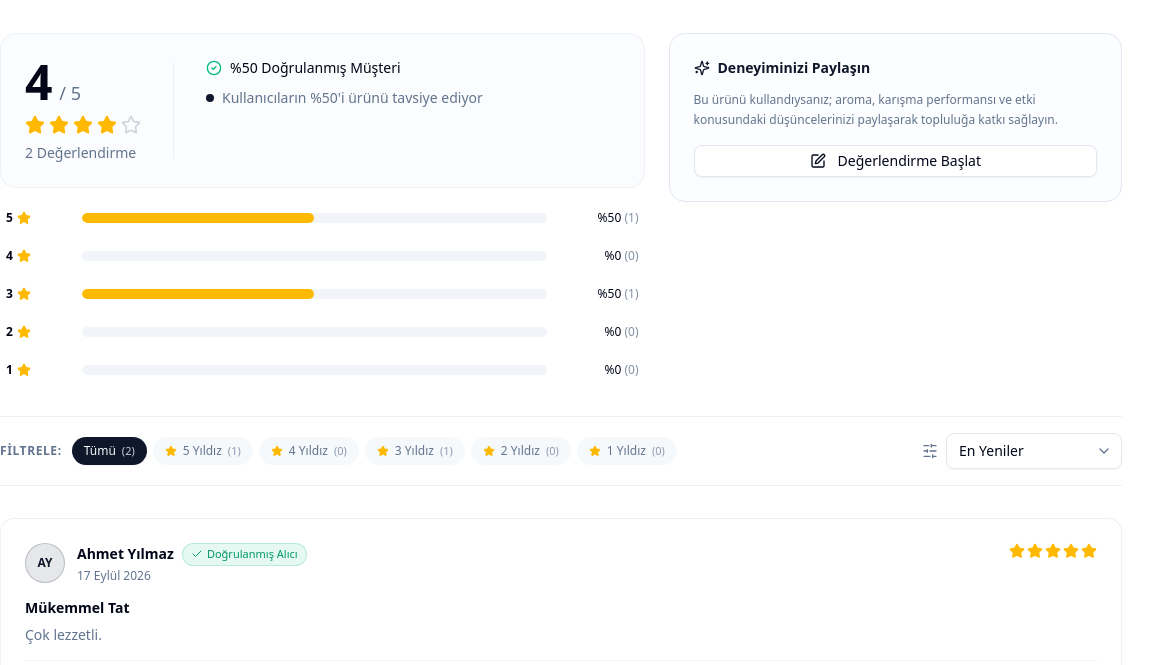
Scenario: ProductReviewsSection Component › filters reviews by star rating and shows empty state when no matches
This screenshot has width=1152, height=665.
Click the button named "5 yıldız": (322,218) [0,204,644,232]
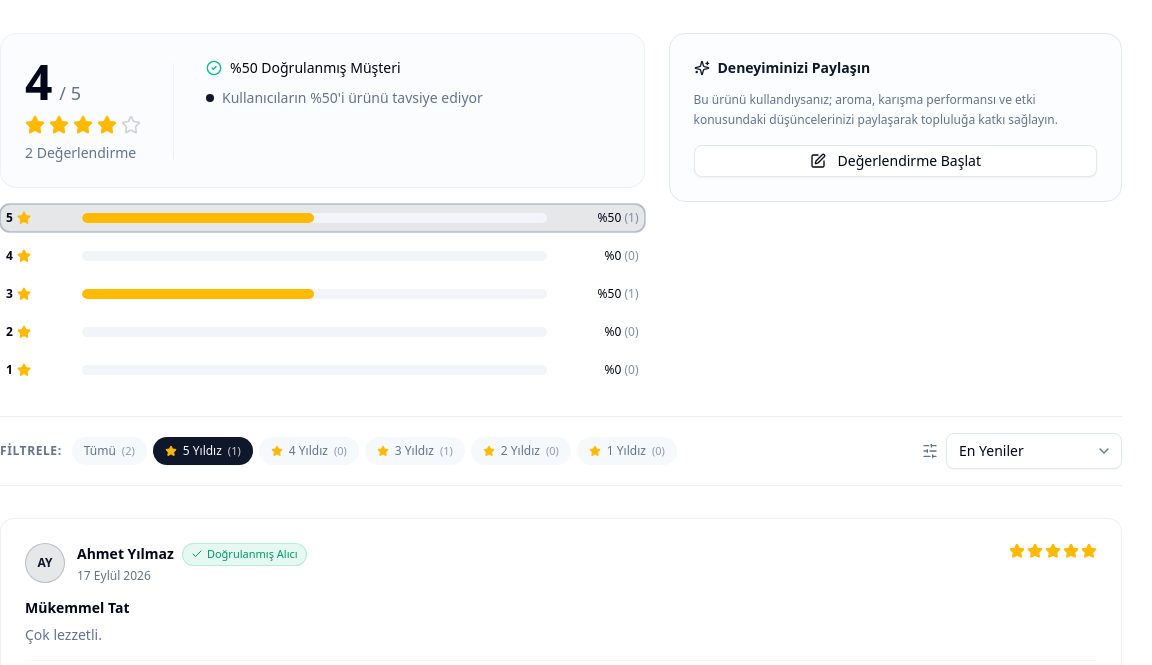
Expected: the heading "Mükemmel Tat" is shown, [25,598,130,616]
Expected: the text "Ortalama Etki" is not shown
Click the button named "1 yıldız": (322,370) [0,356,644,384]
(page scrolled)
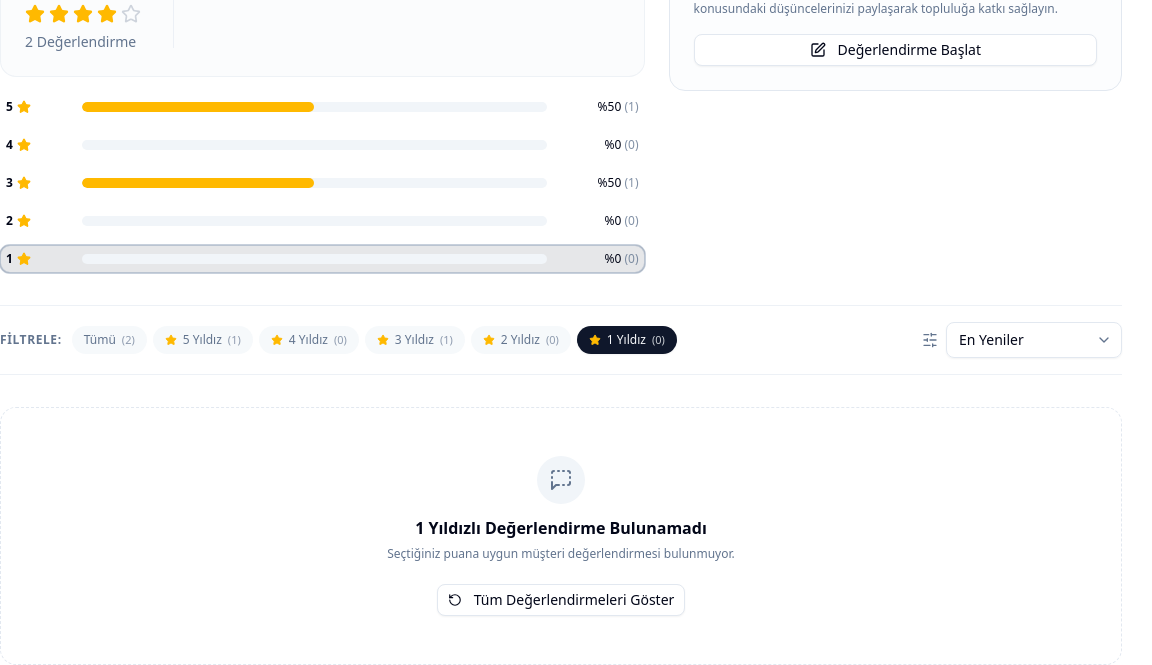
Expected: the text "Ortalama Etki" is not shown
Now the heading "Mükemmel Tat" is gone
Now the heading "1 Yıldızlı Değerlendirme Bulunamadı" is shown, box [415,517,707,539]
Click the button "Tüm Değerlendirmeleri Göster": (561,600) [437,584,685,616]
(page scrolled)
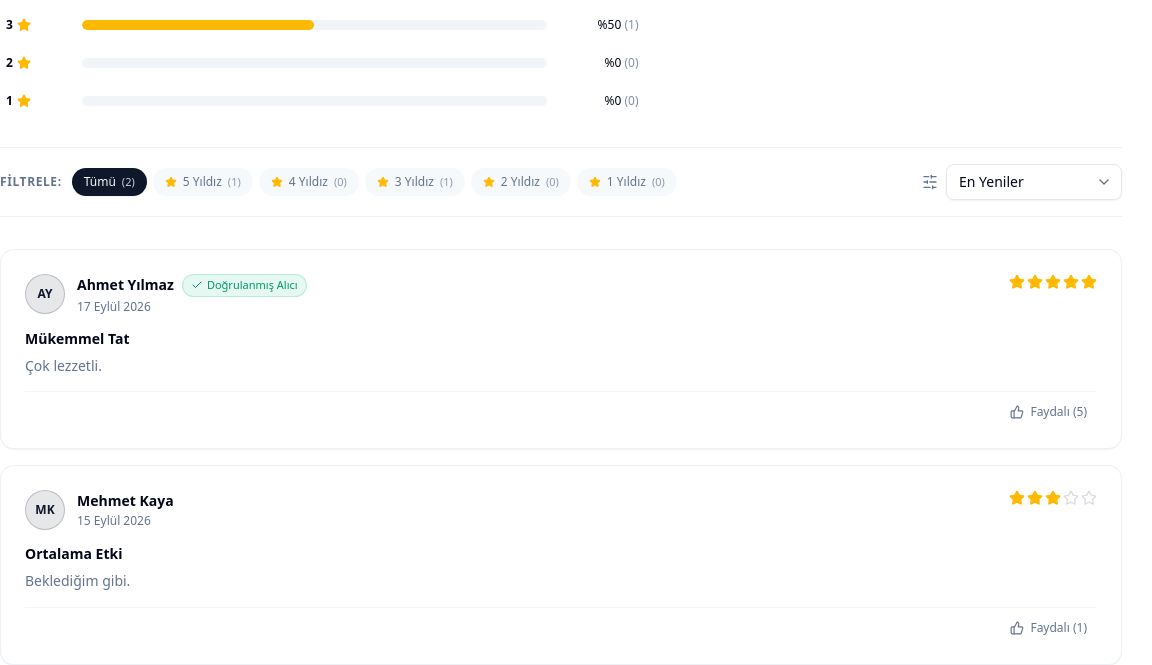
Now the heading "Mükemmel Tat" is shown, box [25,328,130,348]
Now the heading "Ortalama Etki" is shown, box [25,544,122,563]
